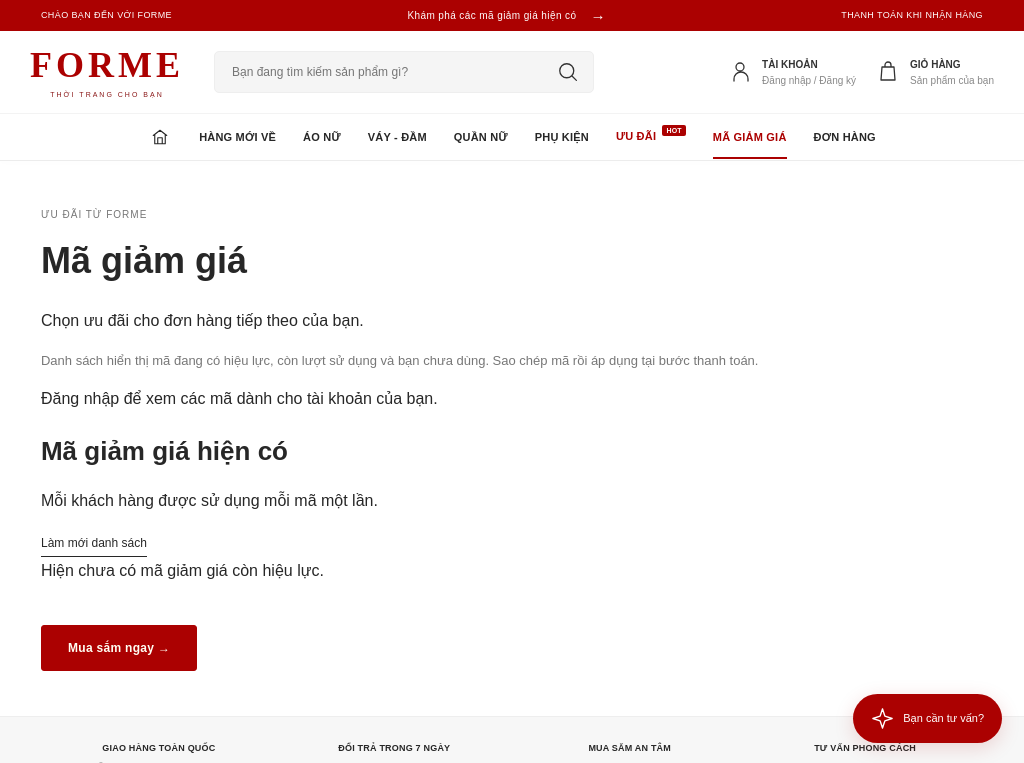
Test case: supports a direct visit and manual refresh after an admin adds a coupon
Expected: the text "Hiện chưa có mã giảm giá còn hiệu lực." is shown, [41,562,324,579]
Click the button "Làm mới danh sách" at (94, 544), box [41,530,147,557]
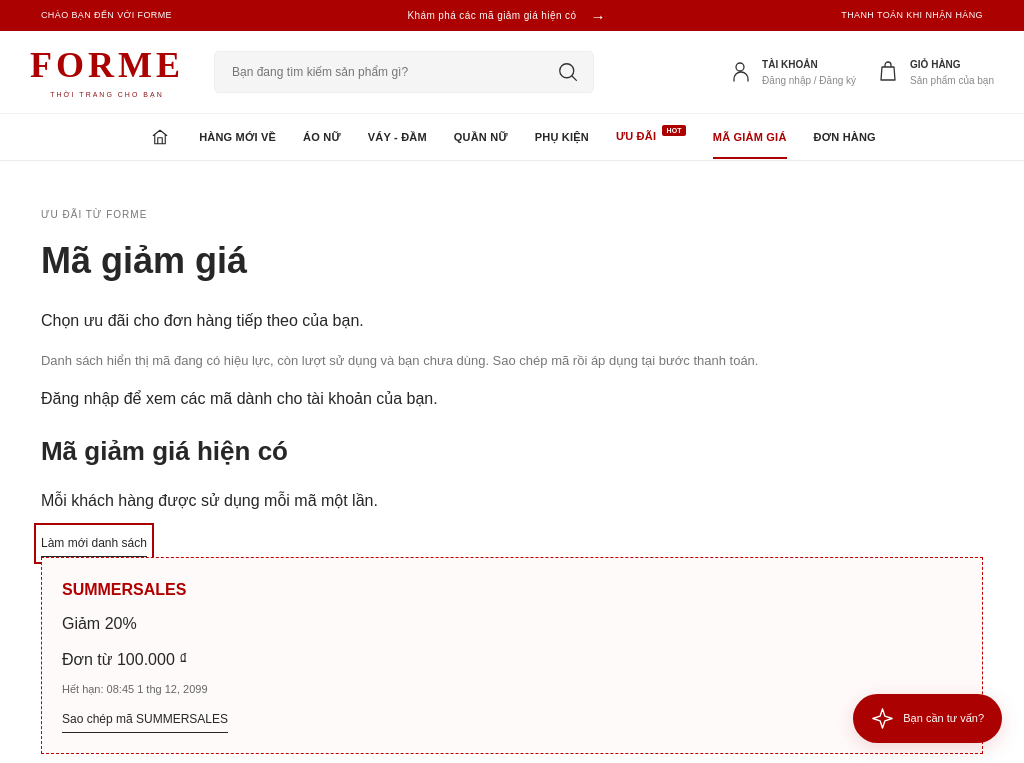
Expected: the text "SUMMERSALES" is shown, [62,581,186,598]
